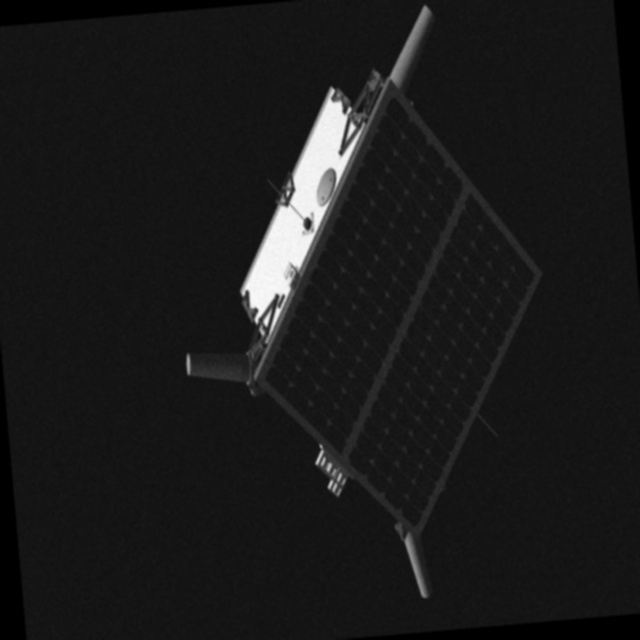medium_debris: (149, 0, 602, 625)
